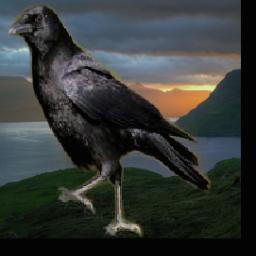Crow: (3, 1, 211, 237)
